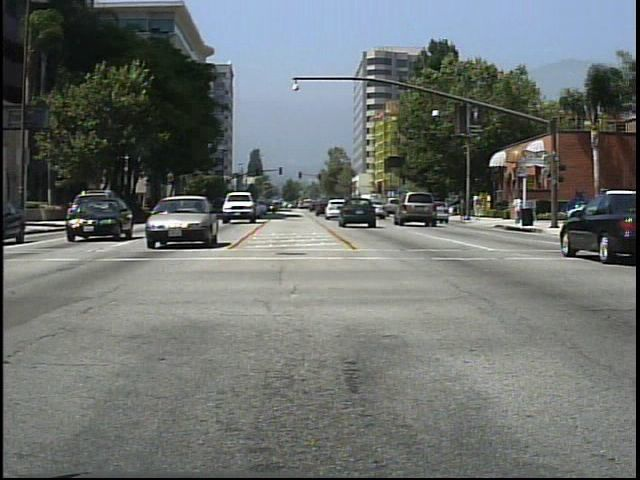person: (509, 192, 524, 228), (472, 192, 484, 223)
